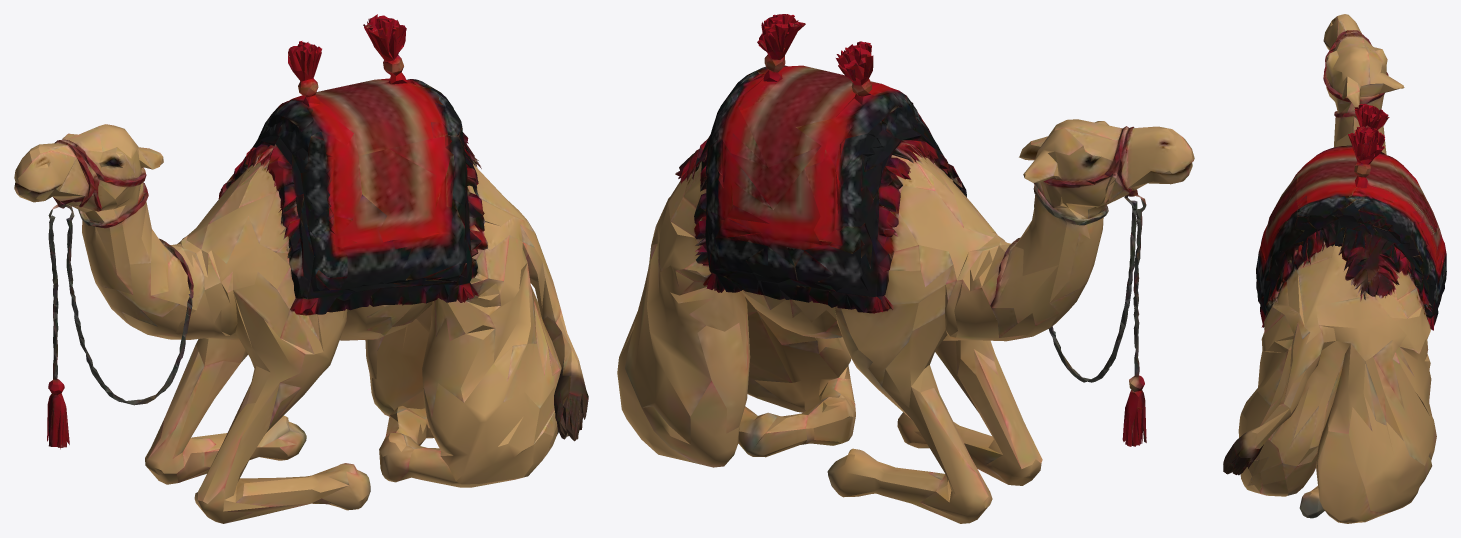
File: camel.glb
3 renders of one model, left to right at view 1: azimuth 30°, elevation 25°; view 2: azimuth 150°, elevation 25°; view 3: azimuth 270°, elevation 25°, orthographic. The views are drawn at different scales.
Bounding box in the file's own units: 1.9 × 1.45 × 0.859.
1 material, 1 textured.
